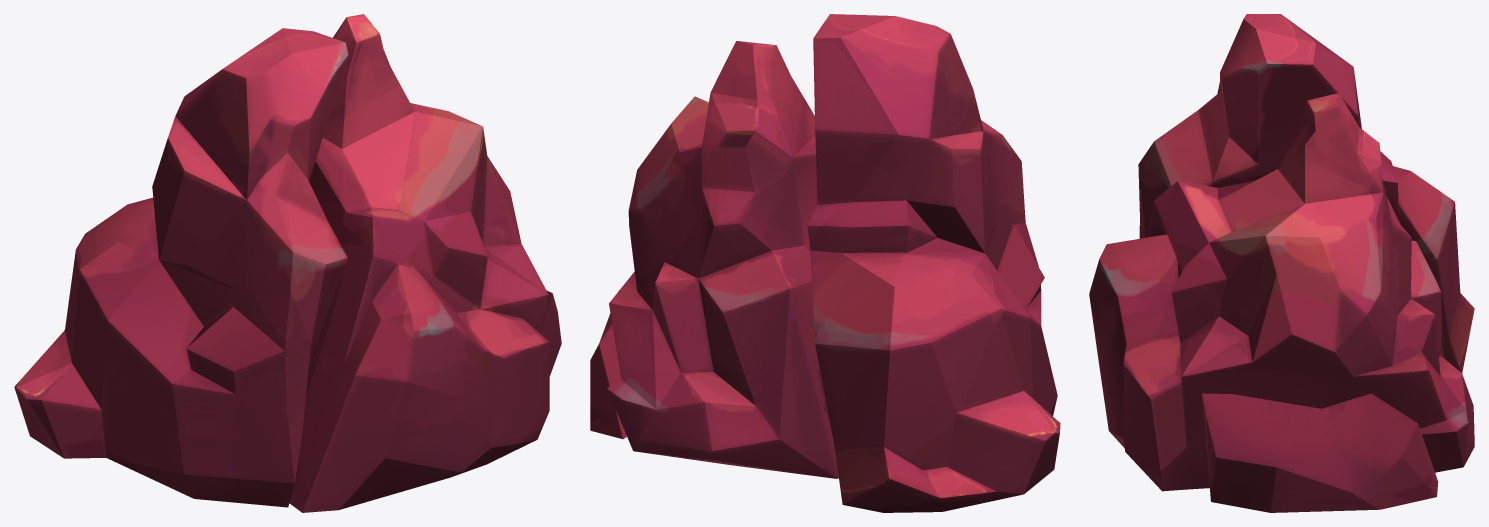
The model's file is SM_Rocks_Luna_A1.fbx.
3 renders of one model, left to right at view 1: azimuth 30°, elevation 25°; view 2: azimuth 150°, elevation 25°; view 3: azimuth 270°, elevation 25°, orthographic. The views are drawn at different scales.
Visible parts, largest first — view 1: SM_Rocks_Luna_A1; view 2: SM_Rocks_Luna_A1; view 3: SM_Rocks_Luna_A1.
Part boxes in pixels (x1,y1,x2,y2): SM_Rocks_Luna_A1: (14,14,561,512); SM_Rocks_Luna_A1: (590,14,1060,512); SM_Rocks_Luna_A1: (1089,14,1474,512).
Bounding box in the file's own units: 257 × 207 × 194.
1 material, 1 textured.
